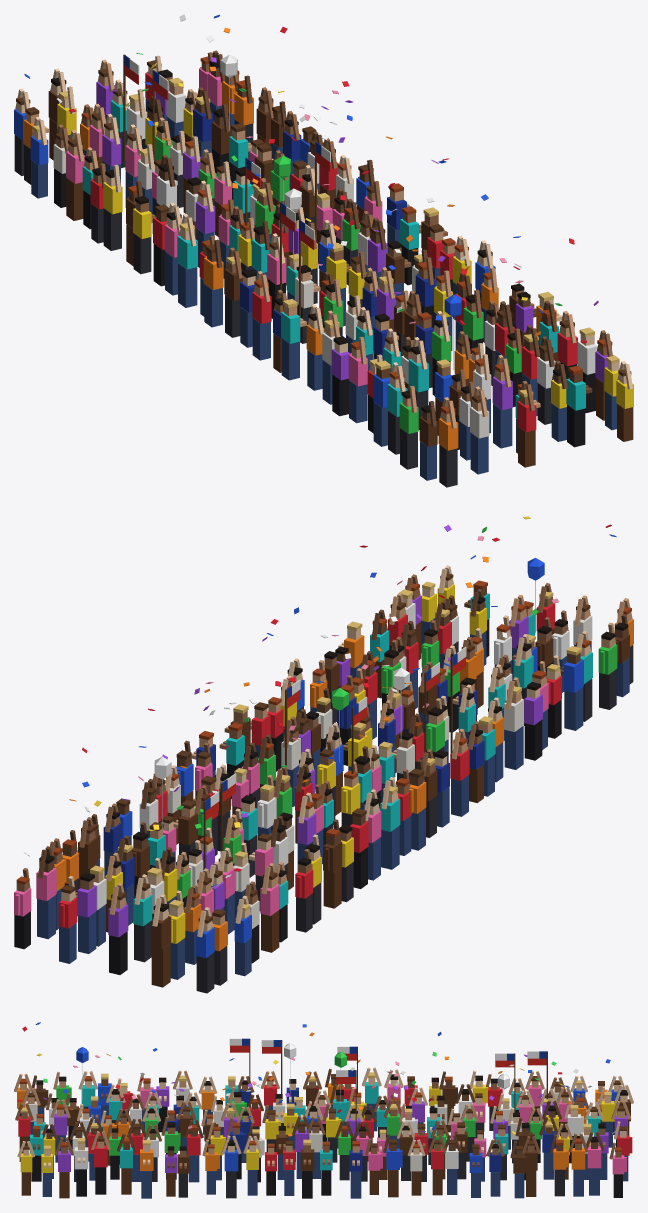
The model's file is multitud_larga_0.obj.
3 renders of one model, top to bottom at view 1: azimuth 30°, elevation 25°; view 2: azimuth 150°, elevation 25°; view 3: azimuth 270°, elevation 25°, orthographic. The views are drawn at different scales.
Visible parts, largest first — view 1: multitud_larga_0; view 2: multitud_larga_0; view 3: multitud_larga_0.
Boxes of the visible parts, x1,y1,x2,y2 form: multitud_larga_0: (14, 14, 633, 487); multitud_larga_0: (14, 516, 633, 993); multitud_larga_0: (14, 1022, 633, 1198).
Bounding box in the file's own units: 5.16 × 3.63 × 18.17.
